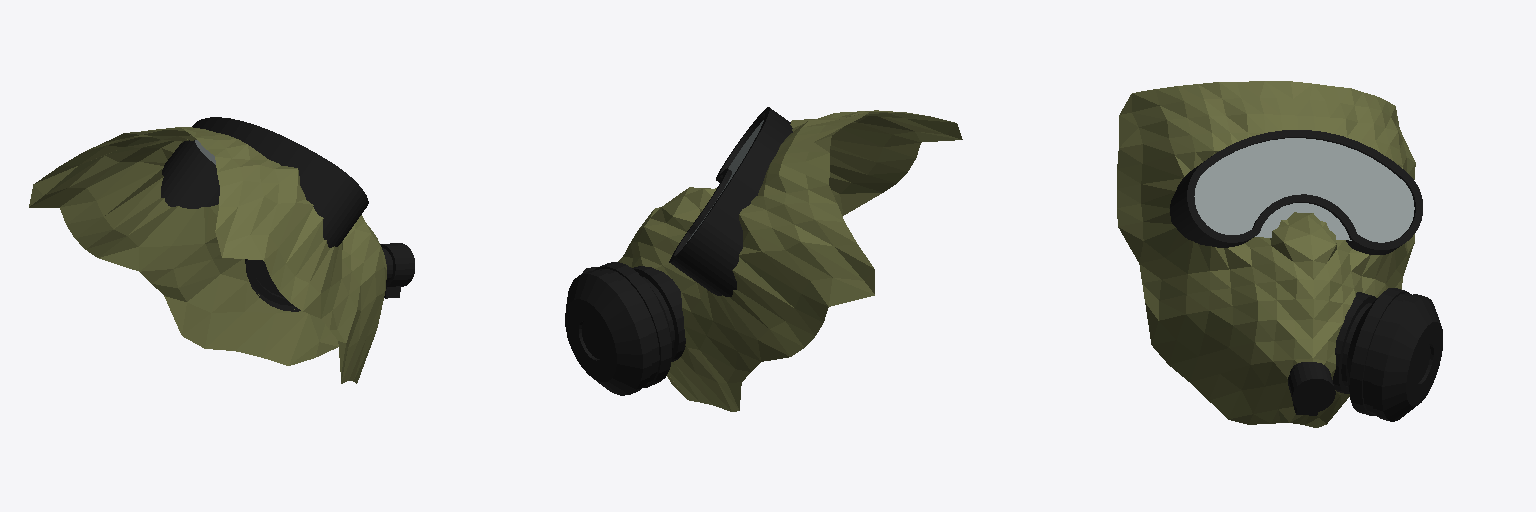
Rendered from gas-maskV2.obj.
3 renders of one model, left to right at view 1: azimuth 30°, elevation 25°; view 2: azimuth 150°, elevation 25°; view 3: azimuth 270°, elevation 25°, orthographic.
Visible parts, largest first — view 1: Mesh3 Group1 Model, Mesh1 Group2 Group1 Model, Mesh2 Group3 Group1 Model; view 2: Mesh3 Group1 Model, Mesh2 Group3 Group1 Model; view 3: Mesh3 Group1 Model, Mesh2 Group3 Group1 Model, Mesh1 Group2 Group1 Model.
Part boxes in pixels (x1,y1,x2,y2): Mesh3 Group1 Model: (29, 117, 386, 383); Mesh1 Group2 Group1 Model: (380, 243, 414, 298); Mesh2 Group3 Group1 Model: (245, 259, 300, 311); Mesh3 Group1 Model: (618, 107, 962, 411); Mesh2 Group3 Group1 Model: (565, 262, 685, 395); Mesh3 Group1 Model: (1117, 81, 1422, 427); Mesh2 Group3 Group1 Model: (1333, 288, 1442, 421); Mesh1 Group2 Group1 Model: (1288, 362, 1335, 415).
Bounding box in the file's own units: 0.2616 × 0.2108 × 0.2214.